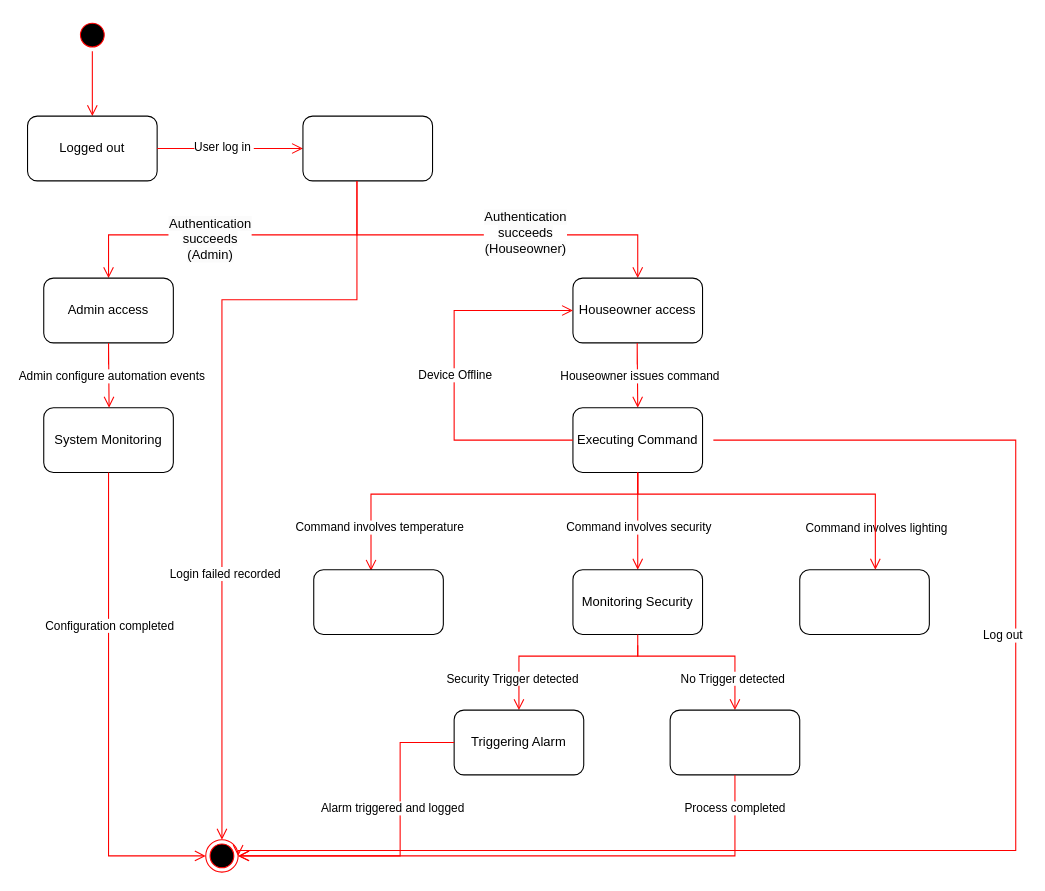
Some shapes in this 1045 by 891 pixel diagram are drawn without their labels. The shapes that lost their labels are listed below. From the top down, each one's centre as x and y in pixels, then its label:
At point 367,148: "Authenticating".
At point 378,601: "Adjusting Thermostate".
At point 864,601: "Controlling lights".
At point 734,742: "Logging Security status".
